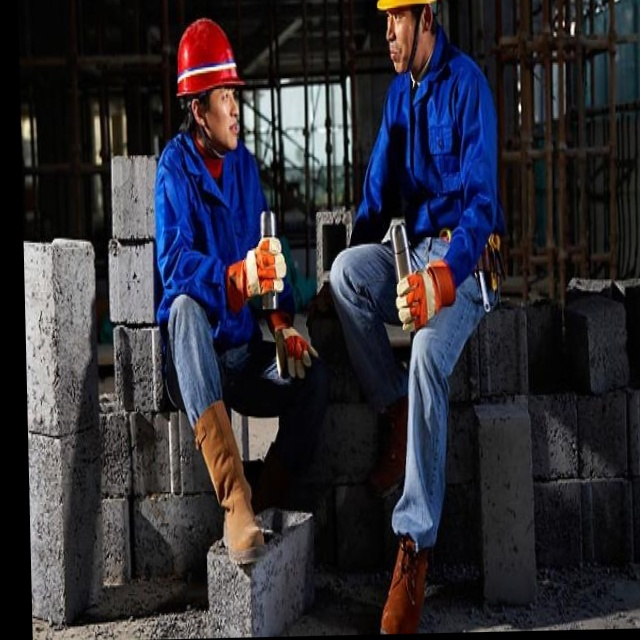Con_Casco: (175, 18, 247, 153), (376, 0, 444, 71)
